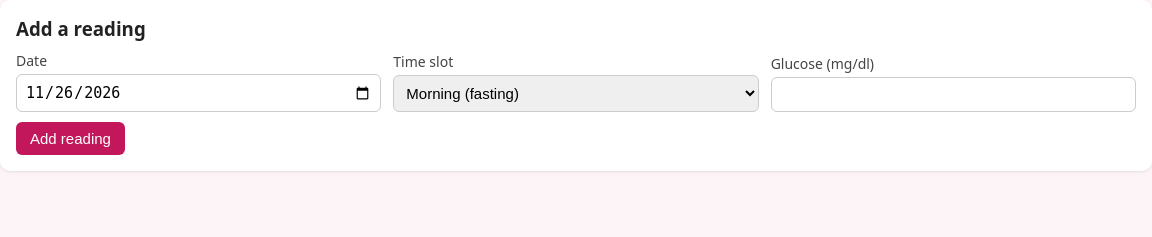
it: shows an error and does not submit when the value is empty
Click the button "Add reading".
click(70, 138)  # box 16,122 -> 125,155
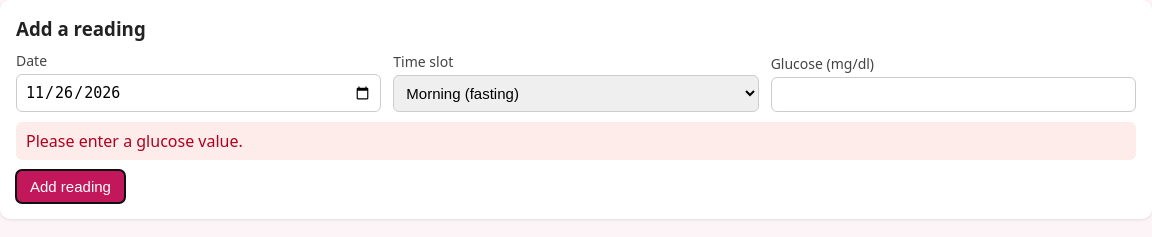
Expected: the message reads "Please enter a glucose value.", 26,130 -> 243,152
